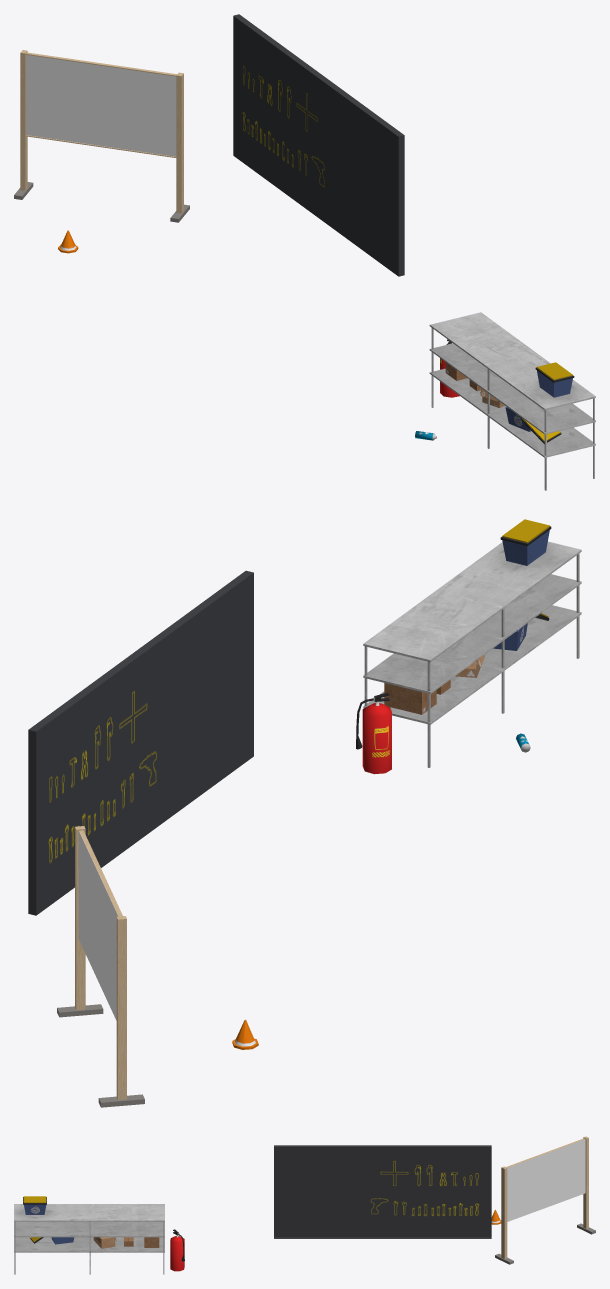
File: Props3.fbx
3 renders of one model, top to bottom at view 1: azimuth 30°, elevation 25°; view 2: azimuth 150°, elevation 25°; view 3: azimuth 270°, elevation 25°, orthographic. The views are drawn at different scales.
Visible parts, largest first — view 1: TableroLLantas, Tablero, mesa1, caja_herramientas; view 2: TableroLLantas, mesa1, Tablero, Extintor, caja_herramientas, caja_cerrada_1; view 3: TableroLLantas, mesa1, Tablero, Extintor, caja_herramientas, caja_abierta_1.
Boxes of the visible parts, left/top/right/bottom form: TableroLLantas: left=233, top=14, right=404, bottom=276; Tablero: left=14, top=50, right=189, bottom=222; mesa1: left=429, top=312, right=595, bottom=490; caja_herramientas: left=535, top=362, right=574, bottom=397; TableroLLantas: left=28, top=570, right=253, bottom=915; mesa1: left=363, top=541, right=581, bottom=767; Tablero: left=57, top=826, right=144, bottom=1107; Extintor: left=356, top=692, right=391, bottom=774; caja_herramientas: left=500, top=519, right=551, bottom=565; caja_cerrada_1: left=384, top=683, right=436, bottom=714; TableroLLantas: left=274, top=1145, right=491, bottom=1238; mesa1: left=14, top=1204, right=164, bottom=1274; Tablero: left=495, top=1136, right=595, bottom=1264; Extintor: left=170, top=1229, right=184, bottom=1271; caja_herramientas: left=23, top=1196, right=46, bottom=1214; caja_abierta_1: left=93, top=1237, right=116, bottom=1248.
Bounding box in the file's own units: 264 × 282 × 1147.
